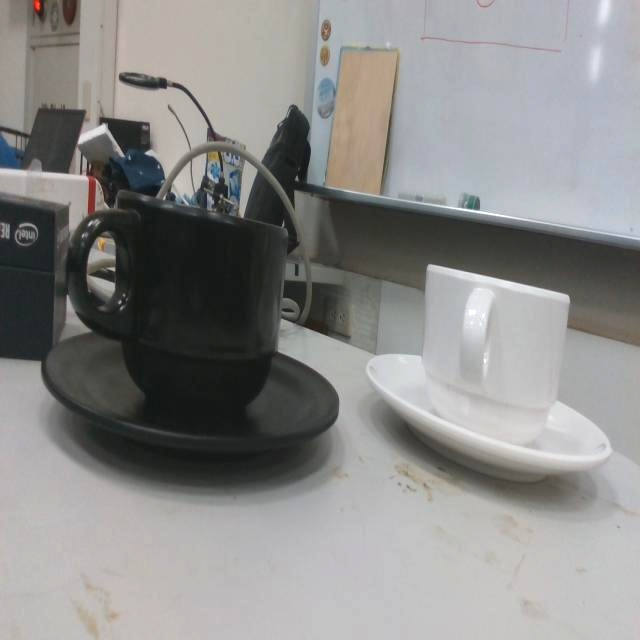black: (38, 183, 342, 471)
white: (362, 259, 616, 492)
